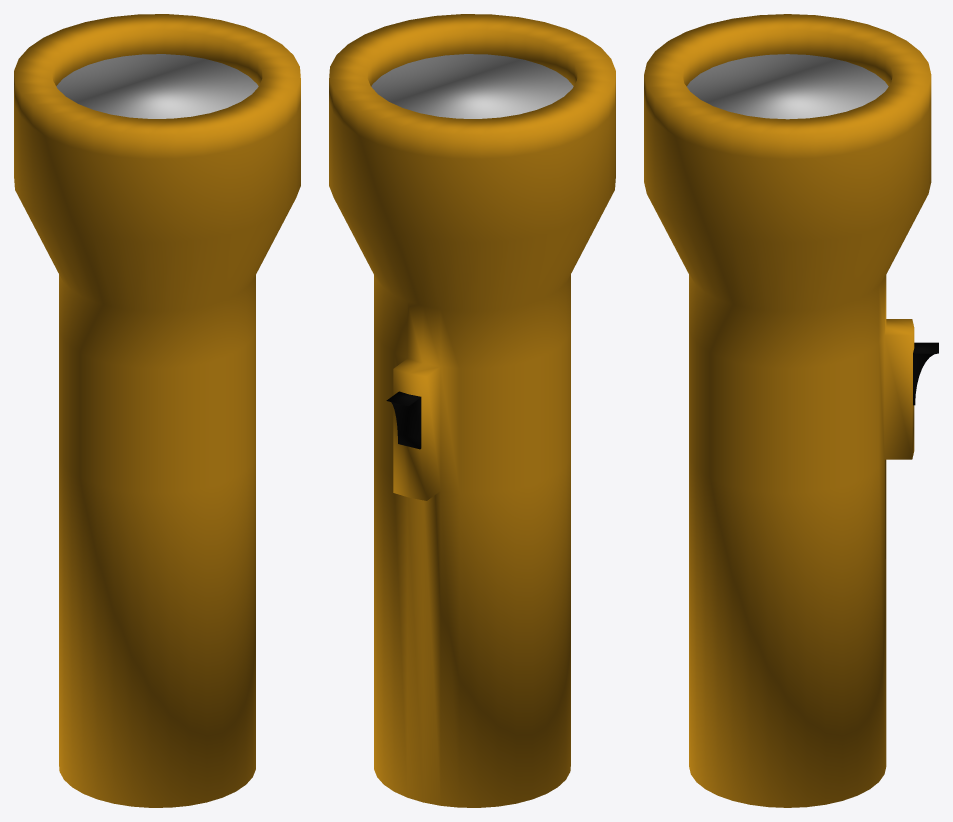
Rendered from flashlight.obj.
3 renders of one model, left to right at view 1: azimuth 30°, elevation 25°; view 2: azimuth 150°, elevation 25°; view 3: azimuth 270°, elevation 25°, orthographic.
Visible parts, largest first — view 1: Sphere; view 2: Sphere; view 3: Sphere.
Part boxes in pixels (left/top/right/bottom): Sphere: left=14, top=14, right=300, bottom=807; Sphere: left=329, top=14, right=615, bottom=807; Sphere: left=644, top=14, right=938, bottom=807.
Bounding box in the file's own units: 2.91 × 7.73 × 2.99.
